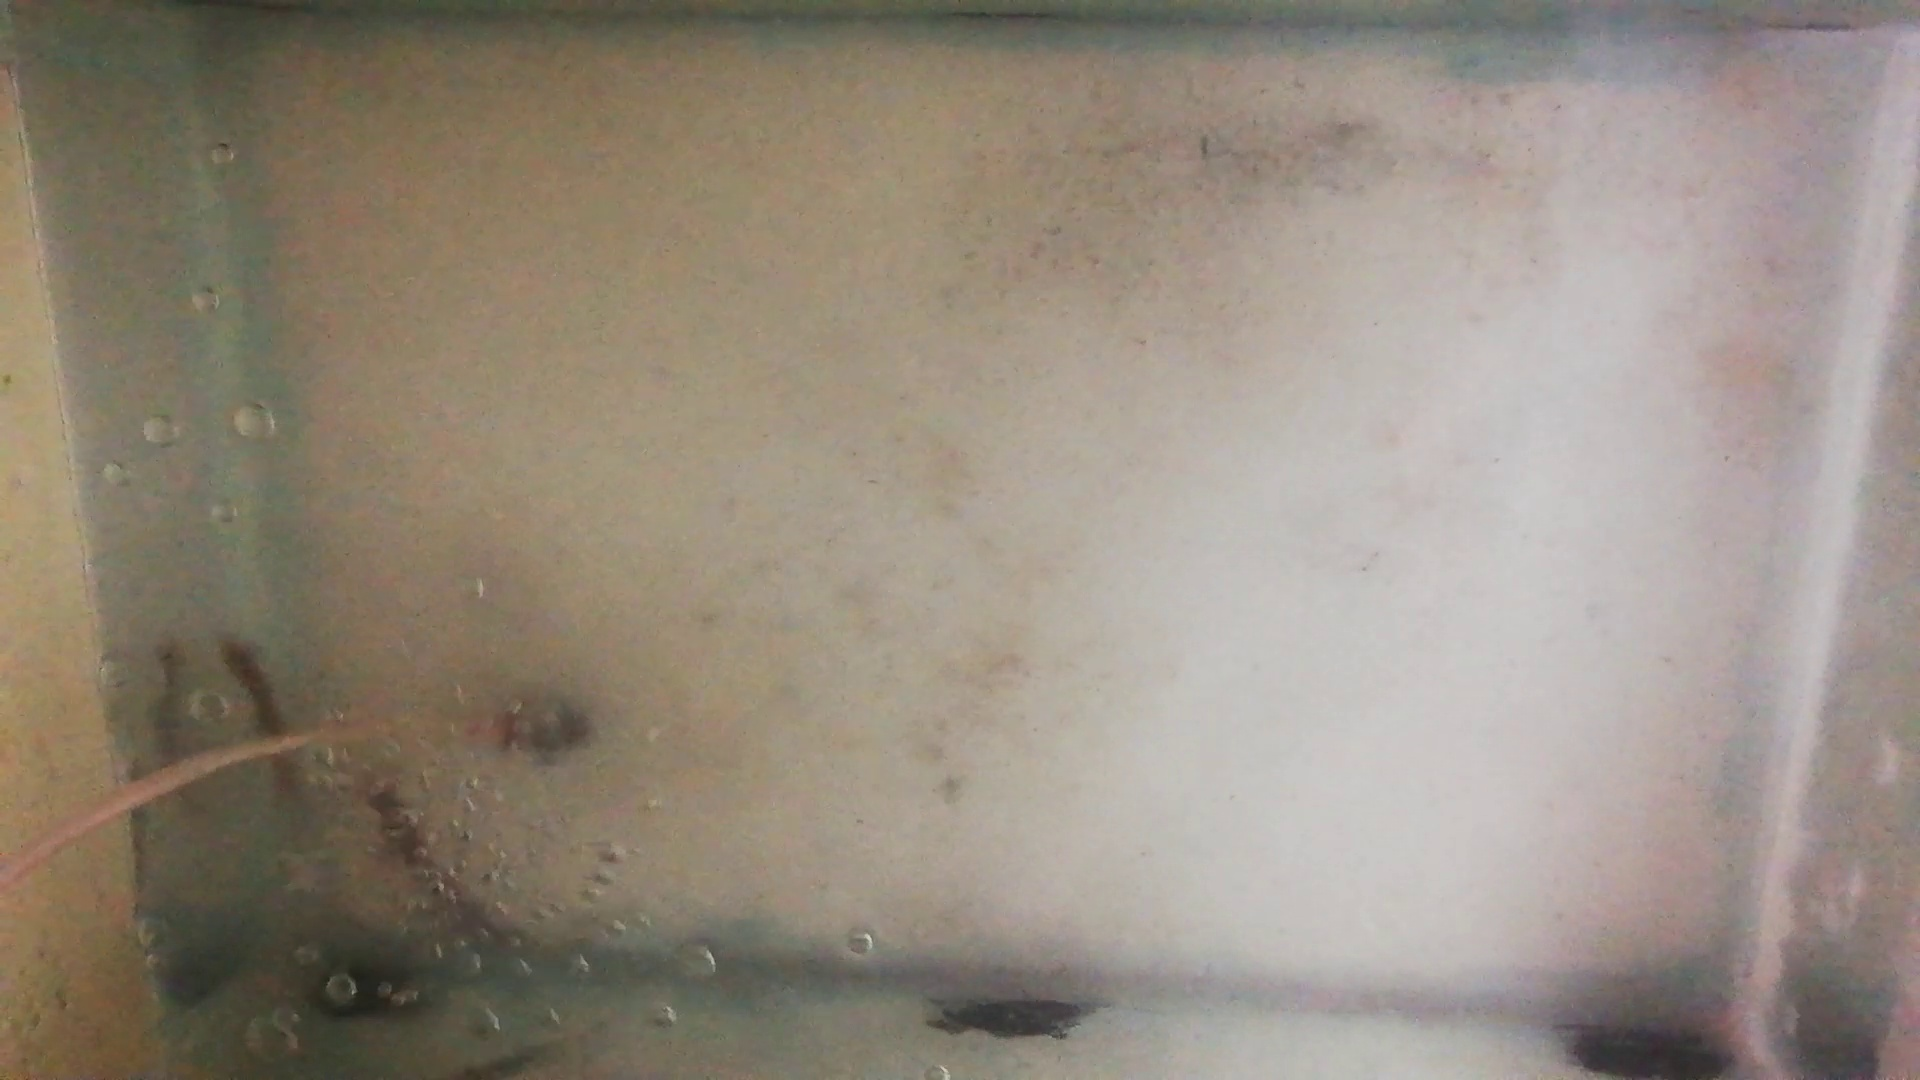fish: (367, 775, 489, 934), (214, 632, 295, 791)
